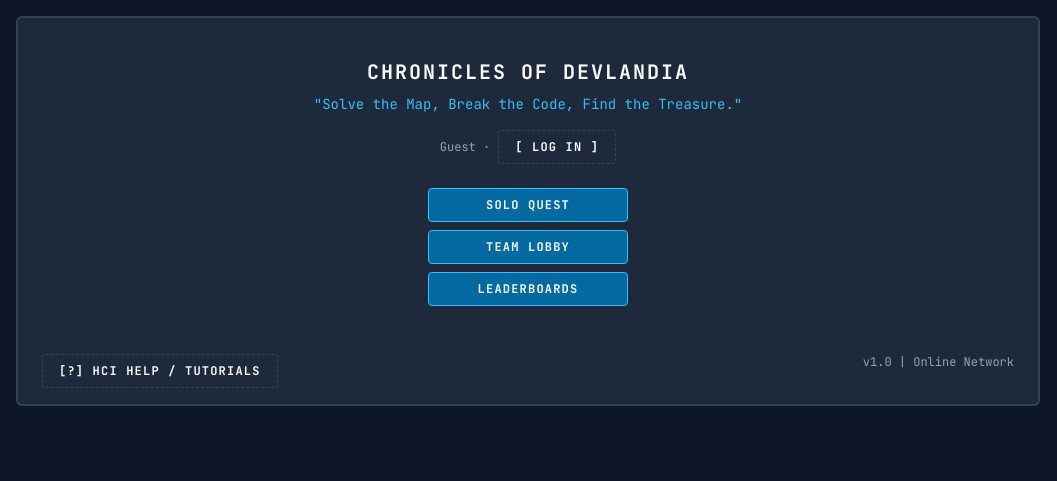
Test: App › enables Team Lobby and Leaderboards
The image size is (1057, 481).
Expected: the button "Leaderboards" is enabled, x1=428 y1=272 x2=628 y2=306
Click the button "Team Lobby": coordinates (528, 247) x1=428 y1=230 x2=628 y2=264
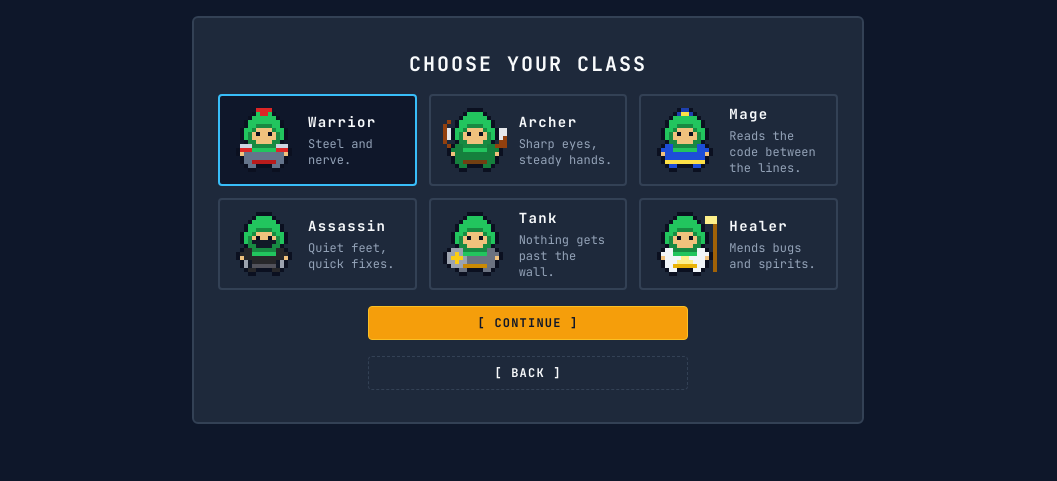
Click the button "[ Continue ]": coordinates (528, 323) x1=368 y1=306 x2=688 y2=340
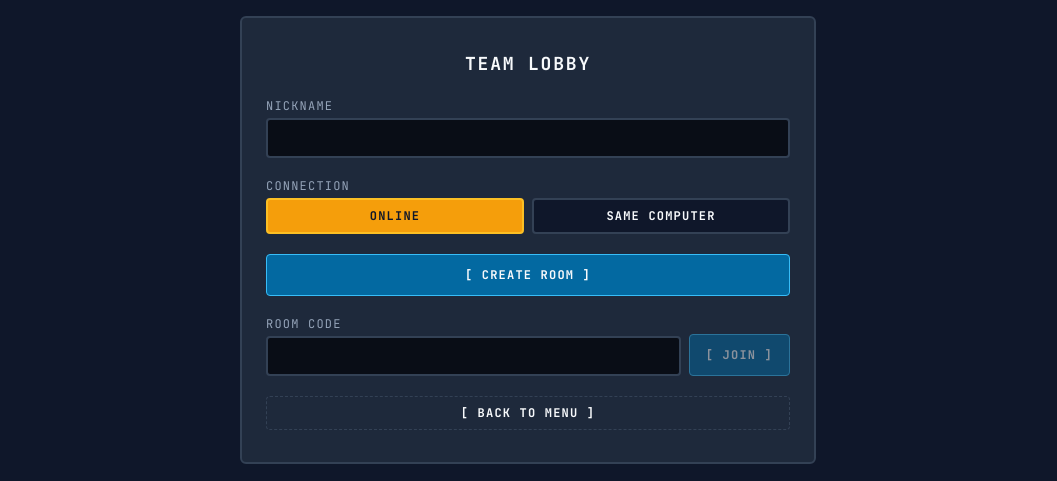
Now the heading "TEAM LOBBY" is shown, box x1=465 y1=52 x2=591 y2=75
